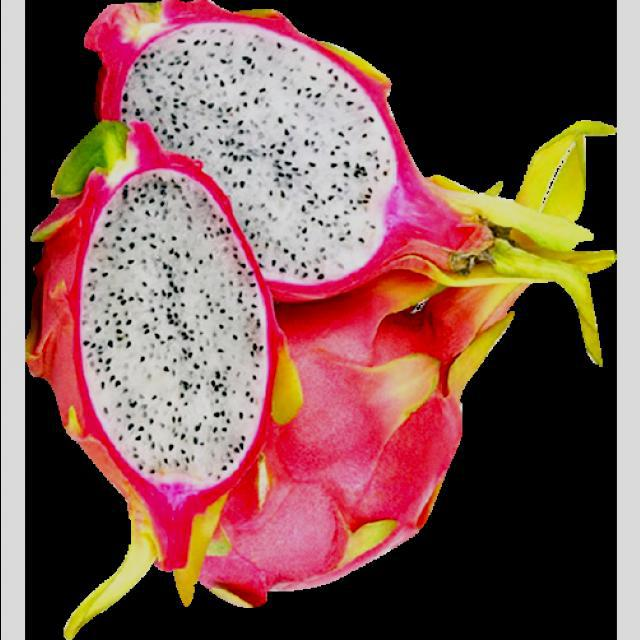trang: (163, 125, 608, 603), (87, 0, 606, 358), (29, 146, 289, 574)
